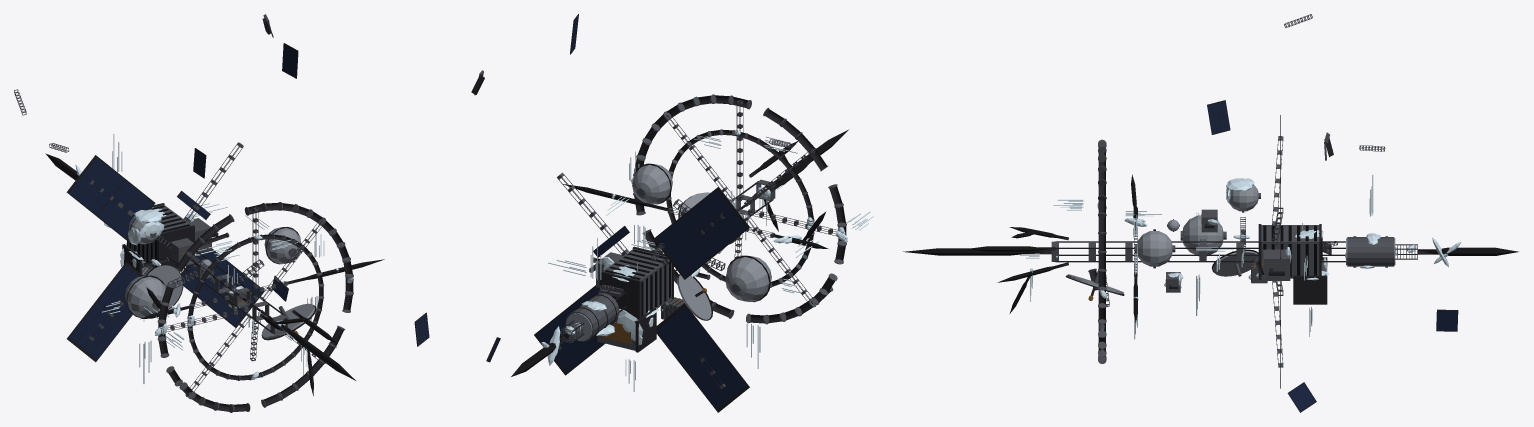
The model's file is navigationsboje.obj.
3 views of the same model, side by side, from view 1: azimuth 30°, elevation 25°; view 2: azimuth 150°, elevation 25°; view 3: azimuth 270°, elevation 25° (orthographic). The views are drawn at different scales.
Visible parts, largest first — view 1: hull2, solar, hull, pale, ice, light, window; view 2: hull2, solar, hull, pale, ice, light, window; view 3: hull, hull2, pale, ice, light, solar, window.
Boxes of the visible parts, box(x1,y1,x2,y2) form: hull2: box(14, 18, 353, 411); solar: box(69, 44, 297, 359); hull: box(14, 14, 353, 412); pale: box(125, 216, 314, 338); ice: box(75, 134, 353, 383); light: box(45, 153, 384, 396); window: box(129, 205, 190, 266); hull2: box(414, 14, 846, 412); solar: box(415, 16, 746, 409); hull: box(474, 70, 846, 389); pale: box(566, 163, 771, 340); ice: box(541, 130, 873, 391); light: box(511, 129, 848, 376); window: box(604, 249, 670, 316); hull: box(1051, 14, 1417, 367); hull2: box(1025, 14, 1458, 412); pale: box(1067, 184, 1395, 294); ice: box(1019, 174, 1461, 339); light: box(903, 174, 1518, 322); solar: box(1208, 101, 1457, 411); window: box(1263, 225, 1316, 276).
Bounding box in the file's own units: 20.89 × 20.84 × 39.1.
